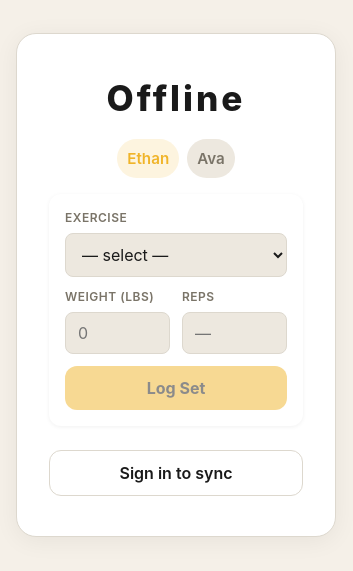
Scenario: OfflineView — pending badge › shows "1 set pending sync" after logging one set
Select "Bench Press" in the dropdown labelled "Exercise" at coordinates (176, 255), box [65,233,287,277]
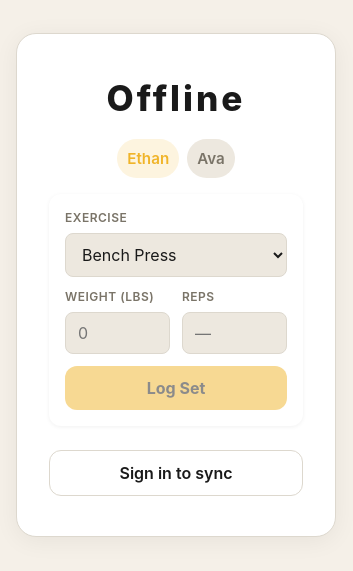
Type "135" into the number field labelled "Weight (lbs)" at coordinates (118, 333), box [65,312,170,354]
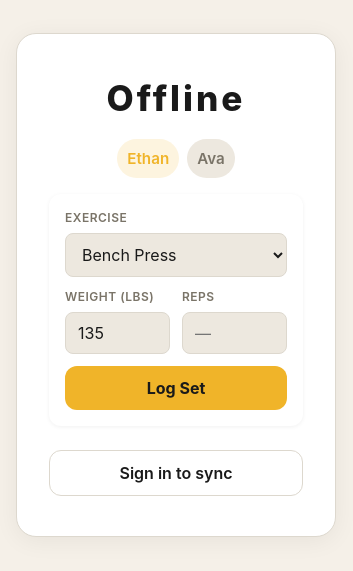
Click the button "Log Set" at coordinates (176, 388), box [65,366,287,410]
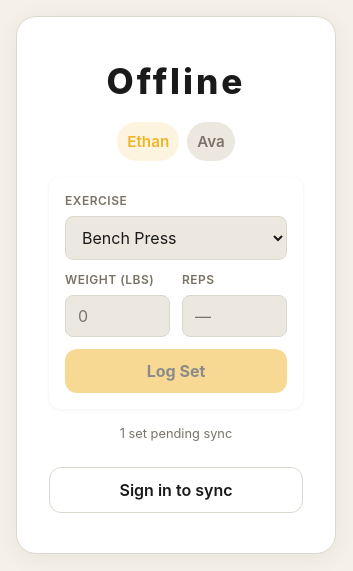
Now the text "1 set pending sync" is shown, box [120,425,232,443]
